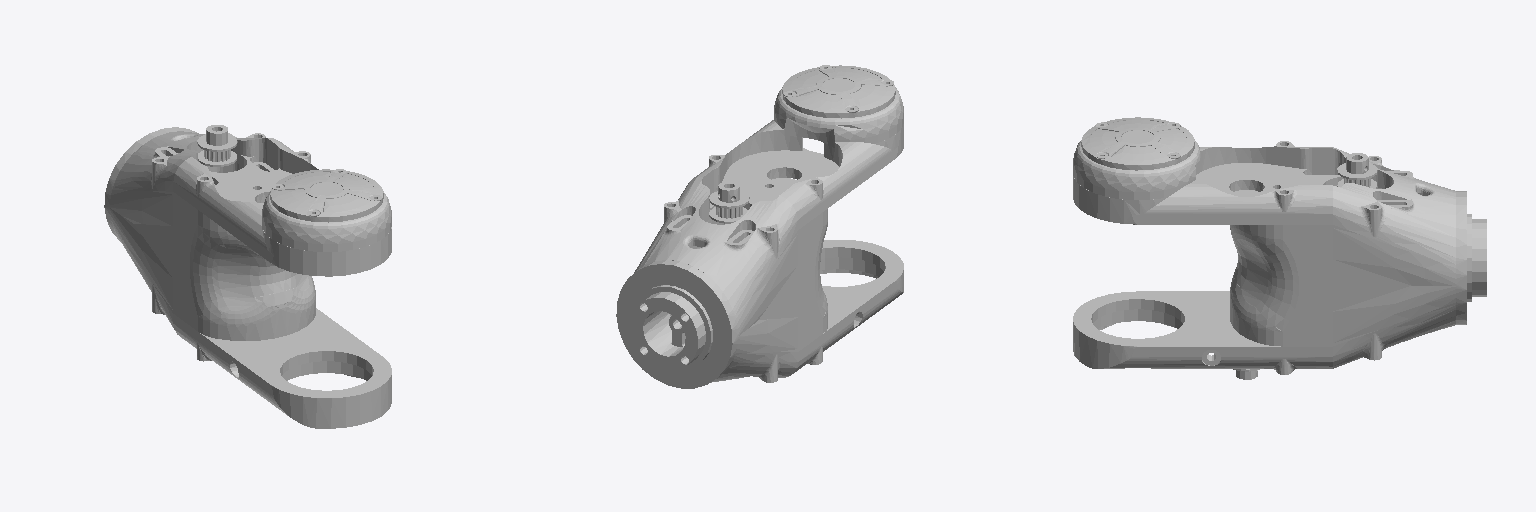
The picture shows the model from 3 angles: view 1: azimuth 30°, elevation 25°; view 2: azimuth 150°, elevation 25°; view 3: azimuth 270°, elevation 25°; orthographic projection.
Parts seen in each view (by area): view 1: U_Wrist_r1.001; view 2: U_Wrist_r1.001; view 3: U_Wrist_r1.001.
Boxes of the visible parts, <box> form: U_Wrist_r1.001: <box>104,125,391,428</box>; U_Wrist_r1.001: <box>616,65,903,388</box>; U_Wrist_r1.001: <box>1073,117,1486,379</box>.
Size of the model in its own units: 6 by 11.75 by 18.5.